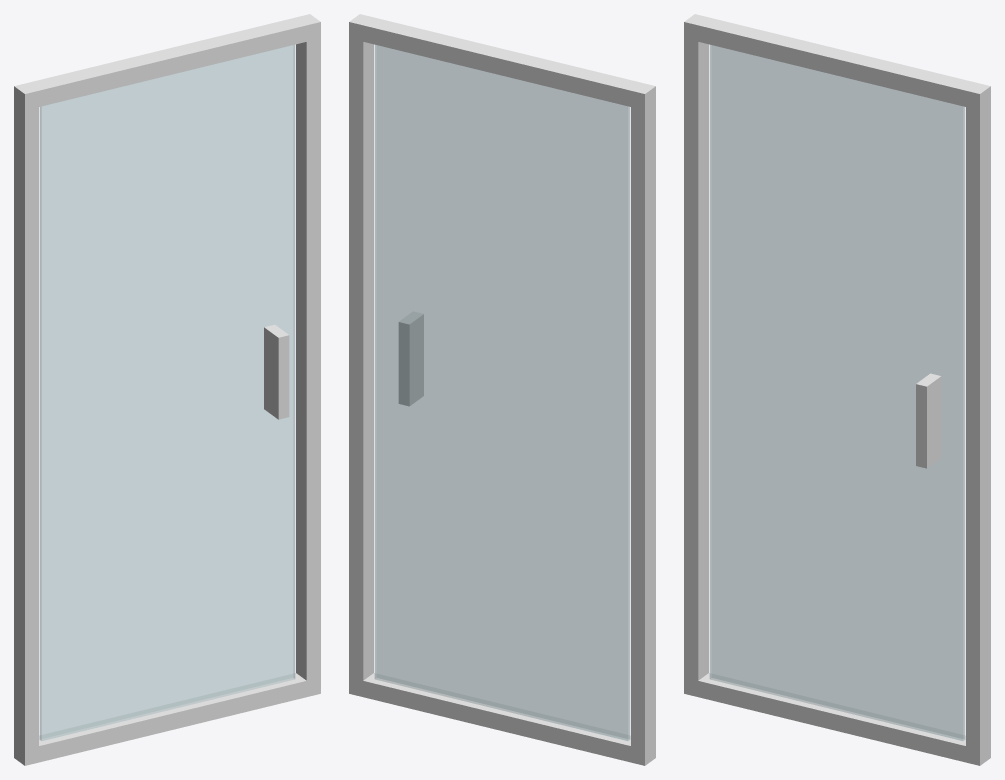
The model's file is puerta-blanco-claro.glb.
The picture shows the model from 3 angles, left to right: view 1: azimuth 30°, elevation 25°; view 2: azimuth 150°, elevation 25°; view 3: azimuth 330°, elevation 25°; orthographic projection.
Parts seen in each view (by area): view 1: glass, post-0.45, post0.45, rail2.025, rail0.025, handle; view 2: glass, post-0.45, post0.45, rail2.025, rail0.025, handle; view 3: glass, post0.45, post-0.45, rail2.025, rail0.025, handle.
Part boxes in pixels (left/top/right/bottom): glass: left=39, top=45, right=295, bottom=740; post-0.45: left=14, top=83, right=38, bottom=765; post0.45: left=296, top=14, right=320, bottom=696; rail2.025: left=22, top=17, right=313, bottom=107; rail0.025: left=32, top=673, right=313, bottom=763; handle: left=264, top=324, right=289, bottom=419; glass: left=374, top=45, right=630, bottom=740; post-0.45: left=631, top=83, right=655, bottom=765; post0.45: left=349, top=14, right=373, bottom=696; rail2.025: left=356, top=16, right=648, bottom=108; rail0.025: left=356, top=673, right=637, bottom=763; handle: left=399, top=311, right=423, bottom=406; glass: left=709, top=45, right=965, bottom=740; post0.45: left=966, top=83, right=990, bottom=765; post-0.45: left=684, top=14, right=708, bottom=696; rail2.025: left=691, top=17, right=982, bottom=107; rail0.025: left=691, top=673, right=972, bottom=763; handle: left=916, top=373, right=941, bottom=468.
Size of the model in its own units: 0.945 by 2.05 by 0.12.
